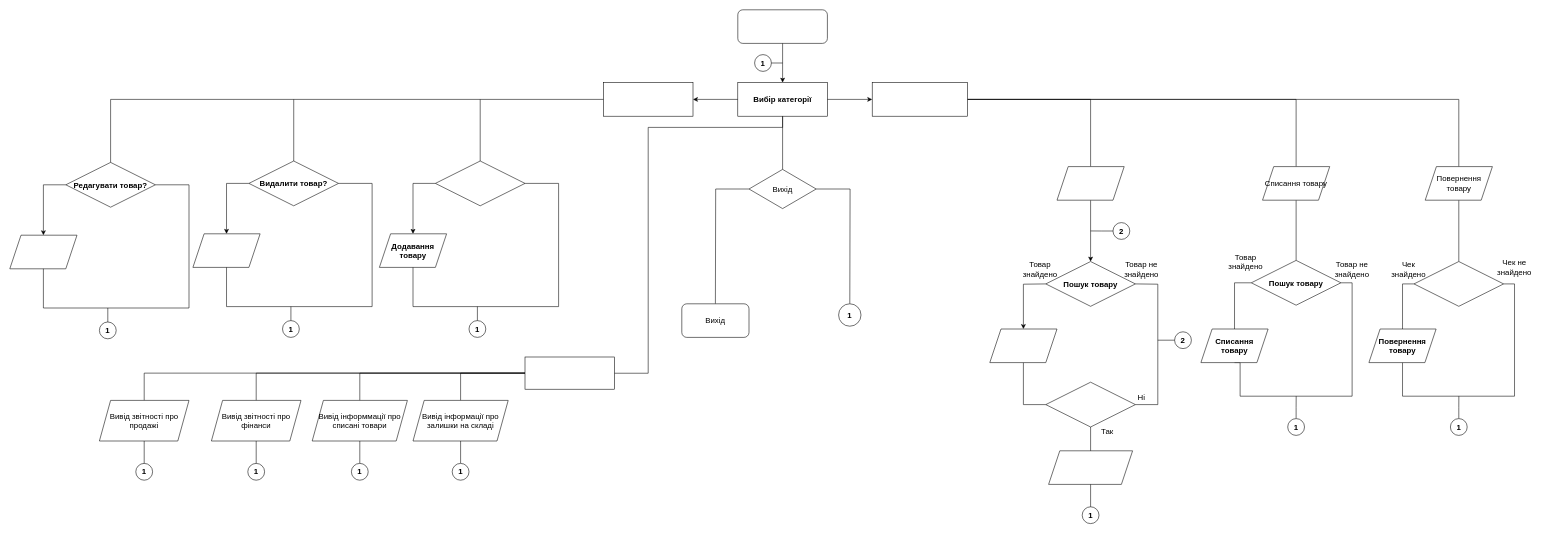
The diagram is 1541 pixels wide and 534 high, and some of its shapes have lost their labels. The shapes that lost their labels are listed below. From the top down, each one's centre as x and y in pixels, then its label:
the point at 782,26: Початок
the point at 648,99: Робота з каталоом
the point at 919,99: Робота магазину
the point at 480,183: Додати товар
the point at 1090,183: Купівля товару
the point at 43,252: Редагування товару
the point at 226,250: Видалення товару
the point at 1458,283: Пошук чеку
the point at 1023,345: Додавання товару в корзину
the point at 569,372: Звітність
the point at 1090,404: Перехід до покупки
the point at 1090,467: Купівля
